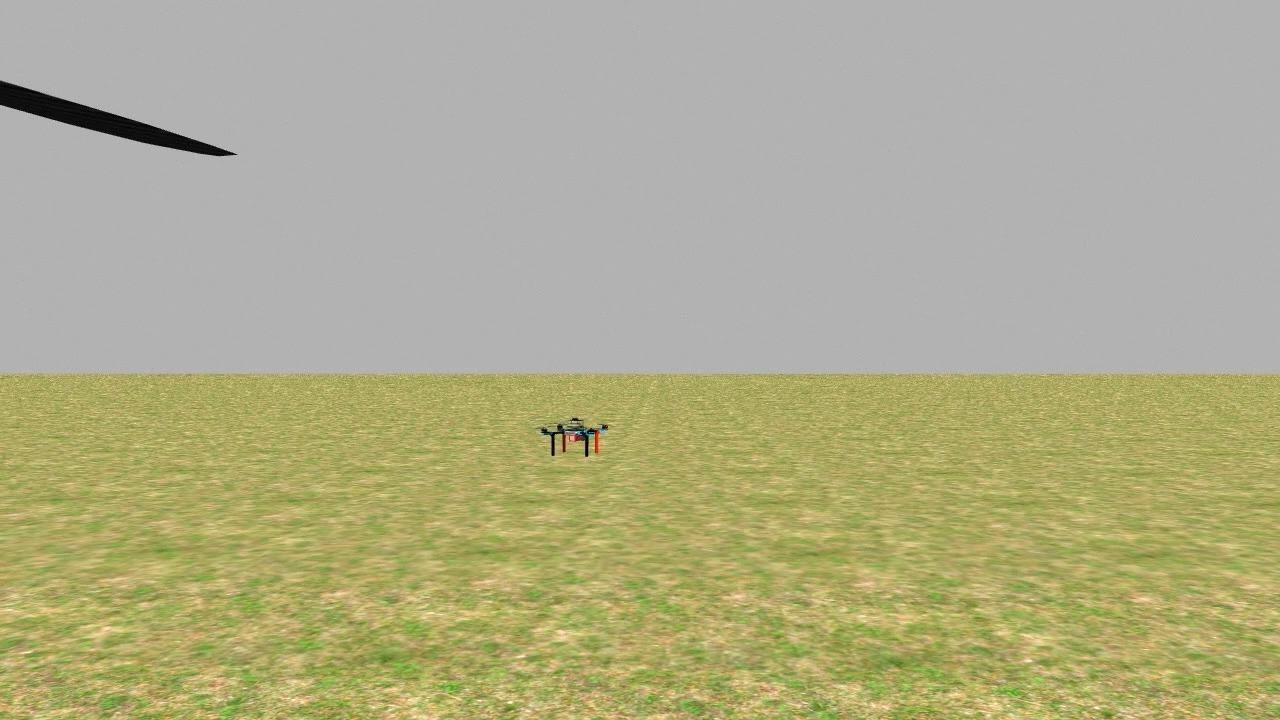UAV: (533, 395, 619, 464)
